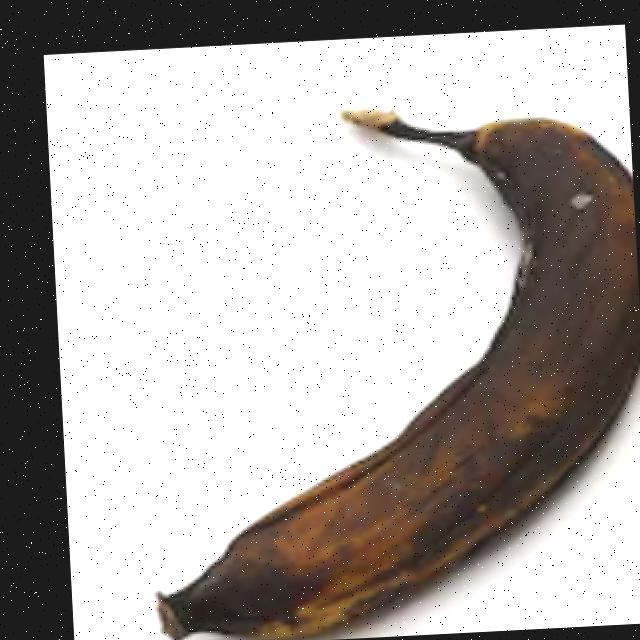Rotten: (93, 66, 640, 640)
